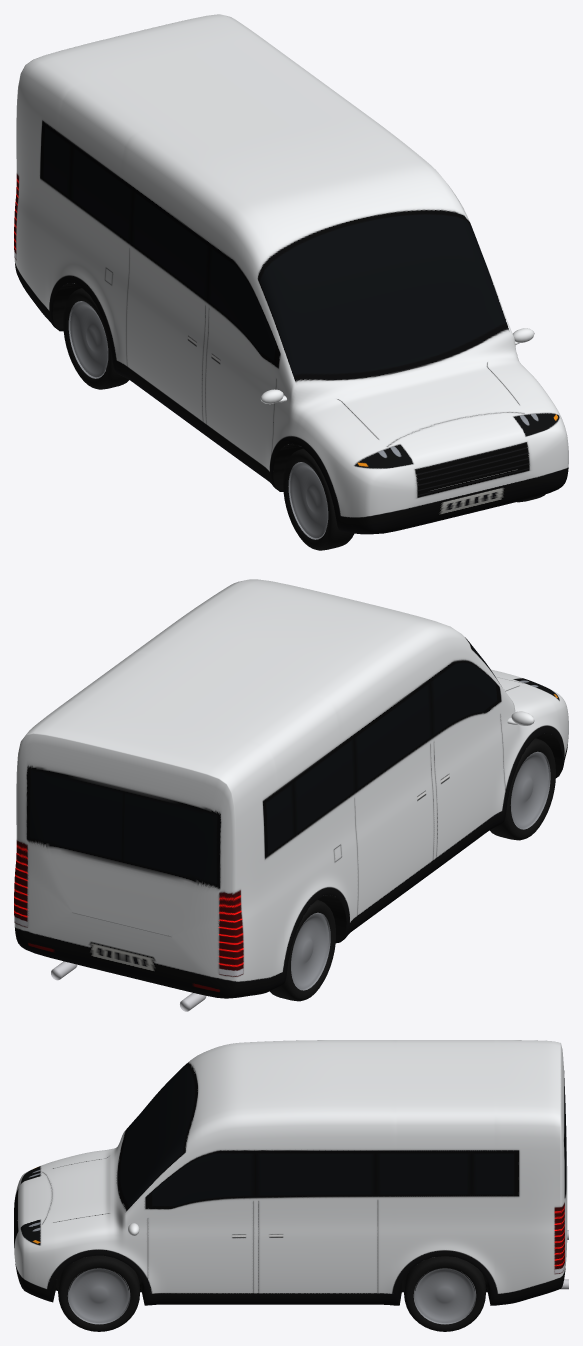
Rendered from car_traffic_van.glb.
3 views of the same model, one above another, from view 1: azimuth 30°, elevation 25°; view 2: azimuth 150°, elevation 25°; view 3: azimuth 270°, elevation 25° (orthographic). The views are drawn at different scales.
Parts seen in each view (by area): view 1: Body, Wheel_FR, Wheel_RR; view 2: Body, Wheel_FR, Wheel_RR; view 3: Body, Wheel_FL, Wheel_RL.
Boxes of the visible parts, x1,y1,x2,y2 form: Body: [14, 14, 568, 534]; Wheel_FR: [283, 448, 354, 550]; Wheel_RR: [63, 288, 128, 389]; Body: [14, 579, 568, 1011]; Wheel_FR: [490, 738, 555, 840]; Wheel_RR: [270, 899, 335, 1001]; Body: [14, 1040, 568, 1305]; Wheel_FL: [58, 1255, 139, 1331]; Wheel_RL: [404, 1256, 485, 1331].
Size of the model in its own units: 2.33 by 2.25 by 5.21.
8 materials, 1 textured.
